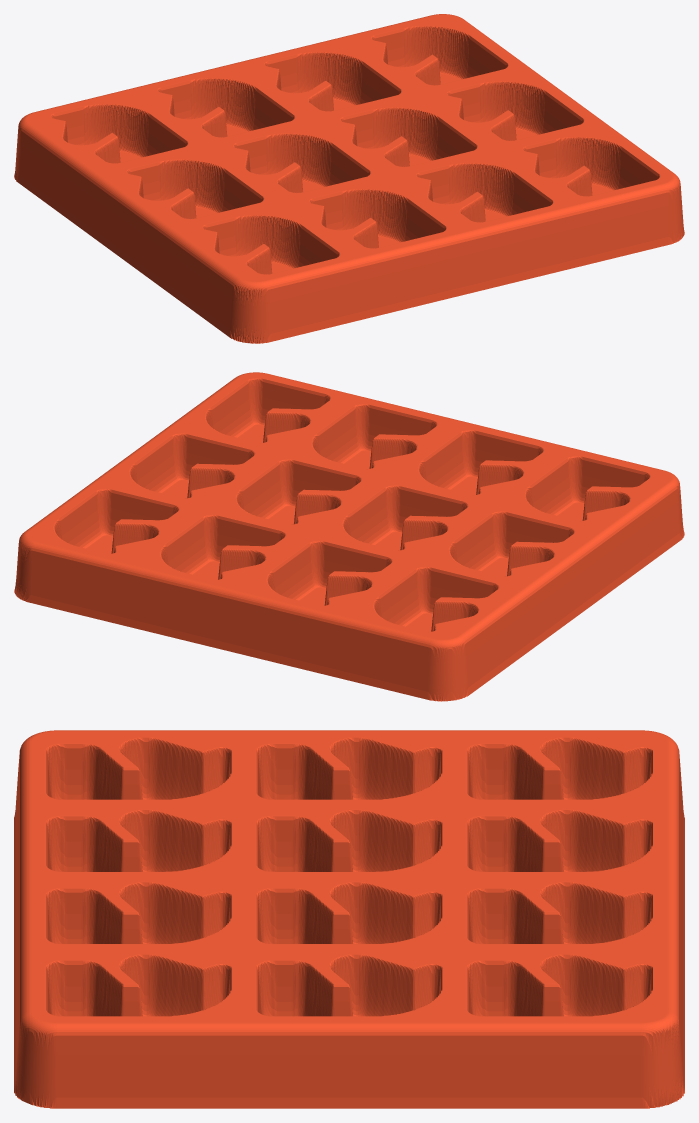
Rendered from mold.glb.
3 views of the same model, one above another, from view 1: azimuth 30°, elevation 25°; view 2: azimuth 150°, elevation 25°; view 3: azimuth 270°, elevation 25° (orthographic). The views are drawn at different scales.
Visible parts, largest first — view 1: geometry_0; view 2: geometry_0; view 3: geometry_0.
Boxes of the visible parts, x1,y1,x2,y2 form: geometry_0: [14, 14, 684, 343]; geometry_0: [14, 372, 684, 701]; geometry_0: [14, 730, 684, 1108].
Bounding box in the file's own units: 0.152 × 0.0182 × 0.141.
